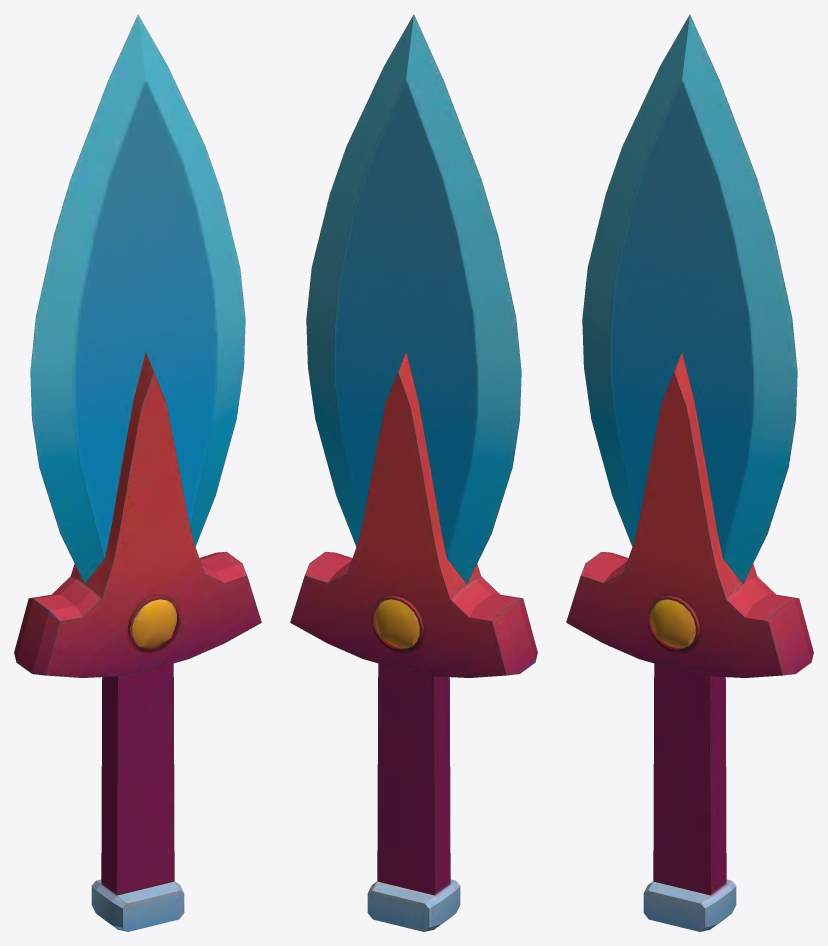
Rendered from espada_02.glb.
3 renders of one model, left to right at view 1: azimuth 30°, elevation 25°; view 2: azimuth 150°, elevation 25°; view 3: azimuth 330°, elevation 25°, orthographic.
Parts seen in each view (by area): view 1: ASSET_2_OK_2-All_0; view 2: ASSET_2_OK_2-All_0; view 3: ASSET_2_OK_2-All_0.
Boxes of the visible parts, bbox=[...] form: ASSET_2_OK_2-All_0: bbox=[14, 14, 261, 931]; ASSET_2_OK_2-All_0: bbox=[290, 14, 537, 931]; ASSET_2_OK_2-All_0: bbox=[566, 14, 813, 931].
Size of the model in its own units: 1.68 by 6.36 by 0.4815.
Materials: 1 (1 with a texture image).
